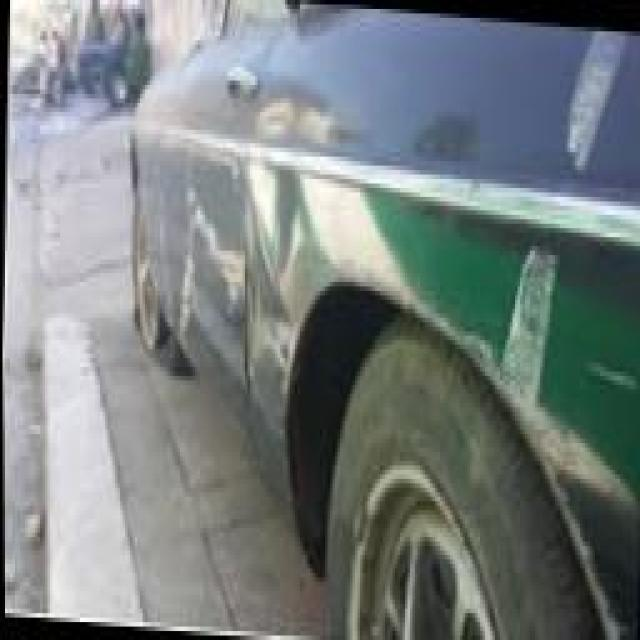Door: (165, 161, 244, 345)
Fender: (488, 18, 640, 439)
